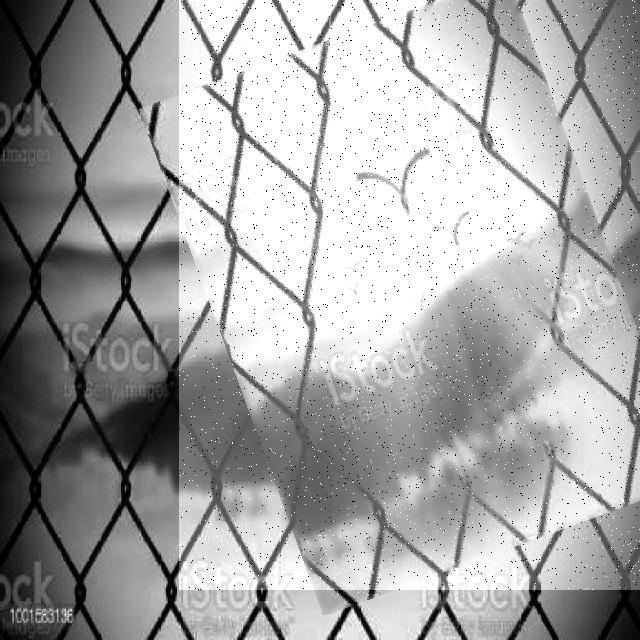anomaly-fence: (179, 0, 640, 590)
